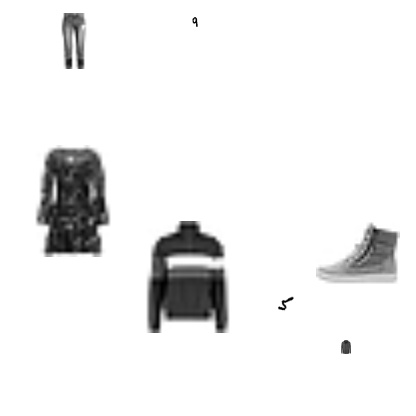5: (274, 292, 296, 314)
9: (188, 14, 202, 28)
Ankle_boot: (316, 211, 400, 295)
Coat: (132, 221, 244, 333), (339, 340, 353, 354)
Dress: (17, 145, 129, 257)
Trouser: (46, 13, 102, 69)
